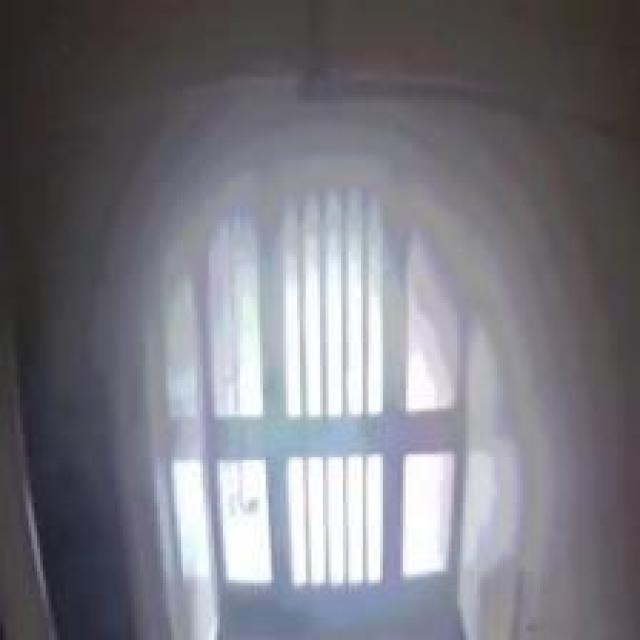fire: (122, 138, 538, 428)
